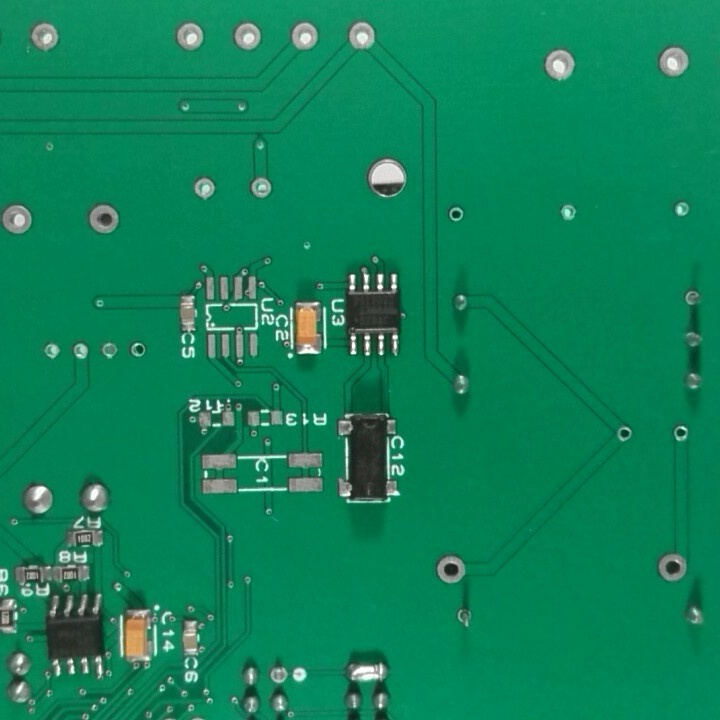F: (538, 45, 581, 83), (653, 41, 693, 81), (431, 551, 469, 590), (170, 18, 207, 55), (83, 203, 122, 238), (1, 201, 36, 239), (346, 18, 379, 57), (656, 549, 690, 586), (27, 20, 64, 53), (230, 20, 264, 55), (287, 19, 323, 52), (190, 176, 219, 205), (453, 606, 479, 633), (266, 663, 292, 688), (70, 335, 92, 364), (681, 287, 704, 312), (613, 423, 637, 446), (40, 339, 62, 363), (667, 422, 690, 444), (100, 338, 121, 362), (129, 338, 150, 362), (250, 175, 270, 200), (560, 198, 579, 223), (673, 198, 692, 221), (447, 205, 466, 223)
P: (344, 658, 391, 686)
